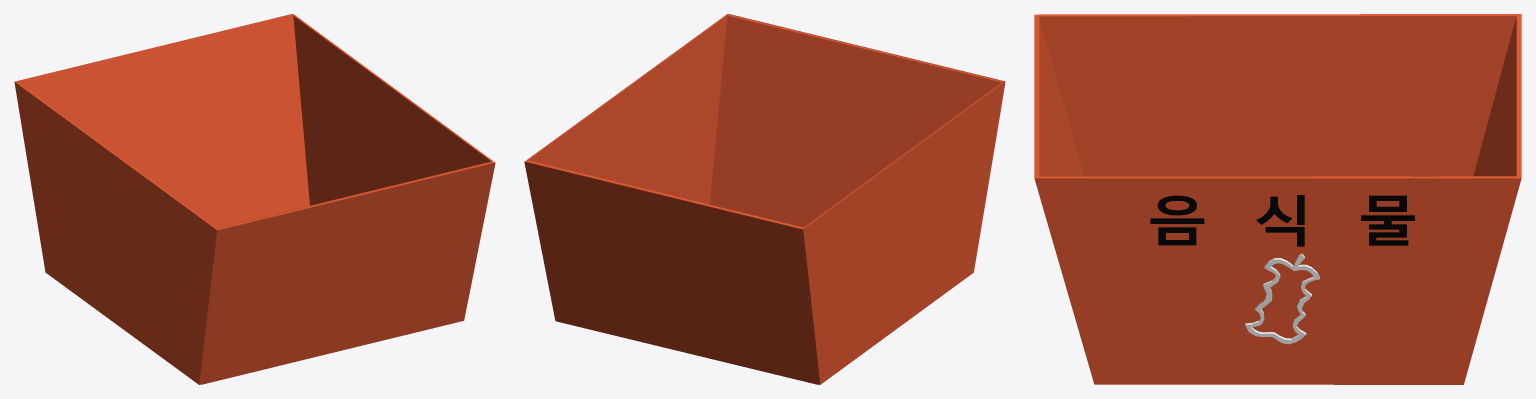
Rendered from Dustbin3.fbx.
The picture shows the model from 3 angles, left to right: view 1: azimuth 30°, elevation 25°; view 2: azimuth 150°, elevation 25°; view 3: azimuth 270°, elevation 25°; orthographic projection. The views are drawn at different scales.
Visible parts, largest first — view 1: Plane; view 2: Plane; view 3: Plane.
Boxes of the visible parts, box(x1,y1,x2,y2) form: Plane: box(14, 14, 495, 384); Plane: box(524, 14, 1005, 384); Plane: box(1034, 14, 1521, 384).
Size of the model in its own units: 152 by 91.77 by 192.
